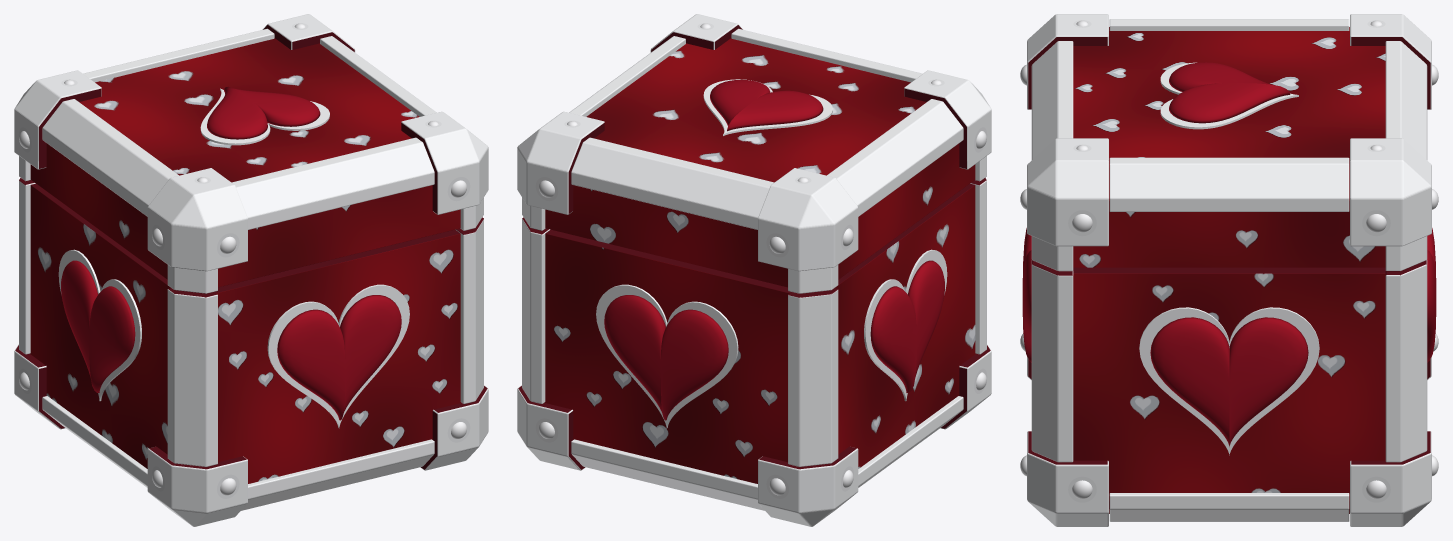
Rendered from cube_hearts.glb.
The picture shows the model from 3 angles, left to right: view 1: azimuth 30°, elevation 25°; view 2: azimuth 150°, elevation 25°; view 3: azimuth 270°, elevation 25°; orthographic projection. The views are drawn at different scales.
Visible parts, largest first — view 1: Body, Lid, TopRail, Heart, BodyPost, CornerCap.001, TopRail.001, Heart.003, CornerCap, CornerCap.005, BottomRail, BodyPost.002 (+13 smaller); view 2: Body, Lid, TopRail.002, Heart.002, BodyPost.001, CornerCap.003, TopRail.001, Heart.003, CornerCap.002, CornerCap.007, BottomRail.002, BodyPost.003 (+13 smaller); view 3: Body, Lid, TopRail.003, Heart.001, BodyPost.002, BodyPost.003, CornerCap.005, CornerCap.007, BottomRail.003, Heart.004, CornerCap.004, CornerCap.006 (+11 smaller).
Part boxes in pixels (x1=…): Body: x1=30, y1=183, x2=461, y2=483; Lid: x1=30, y1=38, x2=460, y2=287; TopRail: x1=231, y1=137, x2=434, y2=229; Heart: x1=277, y1=295, x2=401, y2=420; BodyPost: x1=167, y1=288, x2=217, y2=466; CornerCap.001: x1=147, y1=168, x2=247, y2=271; TopRail.001: x1=42, y1=99, x2=178, y2=216; Heart.003: x1=61, y1=260, x2=135, y2=392; CornerCap: x1=147, y1=446, x2=247, y2=526; CornerCap.005: x1=401, y1=111, x2=488, y2=214; BottomRail: x1=241, y1=439, x2=434, y2=510; BodyPost.002: x1=455, y1=217, x2=483, y2=403; Body: x1=544, y1=183, x2=975, y2=483; Lid: x1=545, y1=38, x2=975, y2=287; TopRail.002: x1=571, y1=137, x2=774, y2=229; Heart.002: x1=604, y1=295, x2=728, y2=420; BodyPost.001: x1=788, y1=288, x2=838, y2=466; CornerCap.003: x1=758, y1=168, x2=858, y2=271; TopRail.001: x1=827, y1=99, x2=963, y2=216; Heart.003: x1=870, y1=260, x2=944, y2=392; CornerCap.002: x1=758, y1=446, x2=858, y2=526; CornerCap.007: x1=517, y1=111, x2=604, y2=214; BottomRail.002: x1=571, y1=439, x2=764, y2=510; BodyPost.003: x1=522, y1=217, x2=550, y2=403; Body: x1=1073, y1=267, x2=1385, y2=513; Lid: x1=1073, y1=27, x2=1385, y2=267; TopRail.003: x1=1109, y1=157, x2=1349, y2=211; Heart.001: x1=1150, y1=317, x2=1308, y2=446; BodyPost.002: x1=1031, y1=259, x2=1073, y2=462; BodyPost.003: x1=1385, y1=259, x2=1427, y2=462; CornerCap.005: x1=1027, y1=138, x2=1108, y2=246; CornerCap.007: x1=1350, y1=138, x2=1431, y2=246; BottomRail.003: x1=1109, y1=493, x2=1349, y2=521; Heart.004: x1=1169, y1=62, x2=1290, y2=123; CornerCap.004: x1=1027, y1=431, x2=1108, y2=526; CornerCap.006: x1=1350, y1=431, x2=1431, y2=526.
Size of the model in its own units: 1.06 by 1.04 by 1.06.
Materials: 8 (1 with a texture image).
